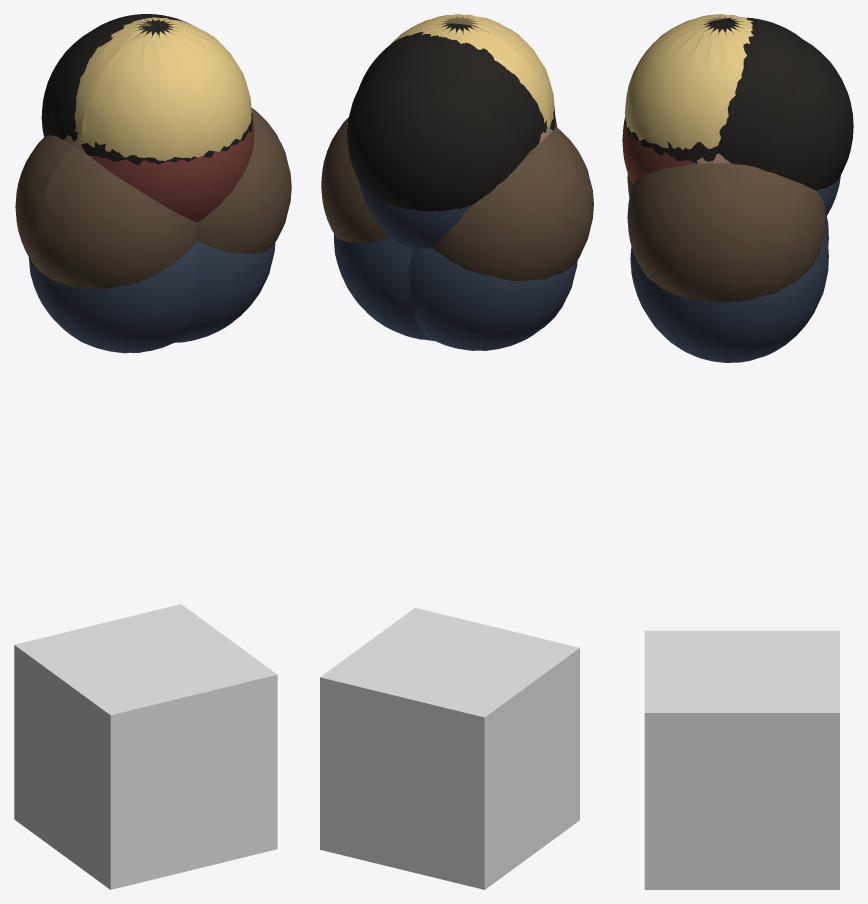
The model's file is samurai_character_v6.glb.
3 views of the same model, side by side, from view 1: azimuth 30°, elevation 25°; view 2: azimuth 150°, elevation 25°; view 3: azimuth 270°, elevation 25° (orthographic). The views are drawn at different scales.
Parts seen in each view (by area): view 1: Cube, helmet_gold_rivet, left_gloved_hand, left_tabi_sock, right_gloved_hand, mempo_cheek_mask, right_tabi_sock, kabuto_helmet_bowl, helmet_front_brim, helmet_rear_flare; view 2: Cube, helmet_rear_flare, left_gloved_hand, left_tabi_sock, kabuto_helmet_bowl, right_tabi_sock, helmet_gold_rivet, right_gloved_hand, cloth_torso_underlayer; view 3: Cube, right_gloved_hand, helmet_gold_rivet, right_tabi_sock, helmet_rear_flare, kabuto_helmet_bowl, mempo_cheek_mask, helmet_front_brim.
Boxes of the visible parts, bbox=[...] form: Cube: bbox=[14, 604, 277, 889]; helmet_gold_rivet: bbox=[74, 17, 251, 160]; left_gloved_hand: bbox=[15, 135, 196, 288]; left_tabi_sock: bbox=[28, 243, 200, 353]; right_gloved_hand: bbox=[196, 108, 291, 253]; mempo_cheek_mask: bbox=[91, 123, 254, 222]; right_tabi_sock: bbox=[175, 241, 275, 342]; kabuto_helmet_bowl: bbox=[50, 14, 190, 139]; helmet_front_brim: bbox=[71, 113, 252, 165]; helmet_rear_flare: bbox=[41, 20, 154, 136]; Cube: bbox=[320, 607, 579, 889]; helmet_rear_flare: bbox=[347, 74, 528, 211]; left_gloved_hand: bbox=[432, 128, 593, 281]; left_tabi_sock: bbox=[408, 248, 577, 350]; kabuto_helmet_bowl: bbox=[358, 23, 544, 152]; right_tabi_sock: bbox=[334, 234, 434, 340]; helmet_gold_rivet: bbox=[390, 14, 554, 128]; right_gloved_hand: bbox=[321, 117, 389, 242]; cloth_torso_underlayer: bbox=[358, 179, 471, 248]; Cube: bbox=[644, 630, 839, 889]; right_gloved_hand: bbox=[627, 163, 825, 303]; helmet_gold_rivet: bbox=[624, 14, 753, 149]; right_tabi_sock: bbox=[630, 230, 828, 362]; helmet_rear_flare: bbox=[754, 40, 853, 190]; kabuto_helmet_bowl: bbox=[701, 17, 807, 166]; mempo_cheek_mask: bbox=[622, 117, 698, 184]; helmet_front_brim: bbox=[625, 25, 743, 162].
Bounding box in the file's own units: 3 × 9.33 × 2.37.
